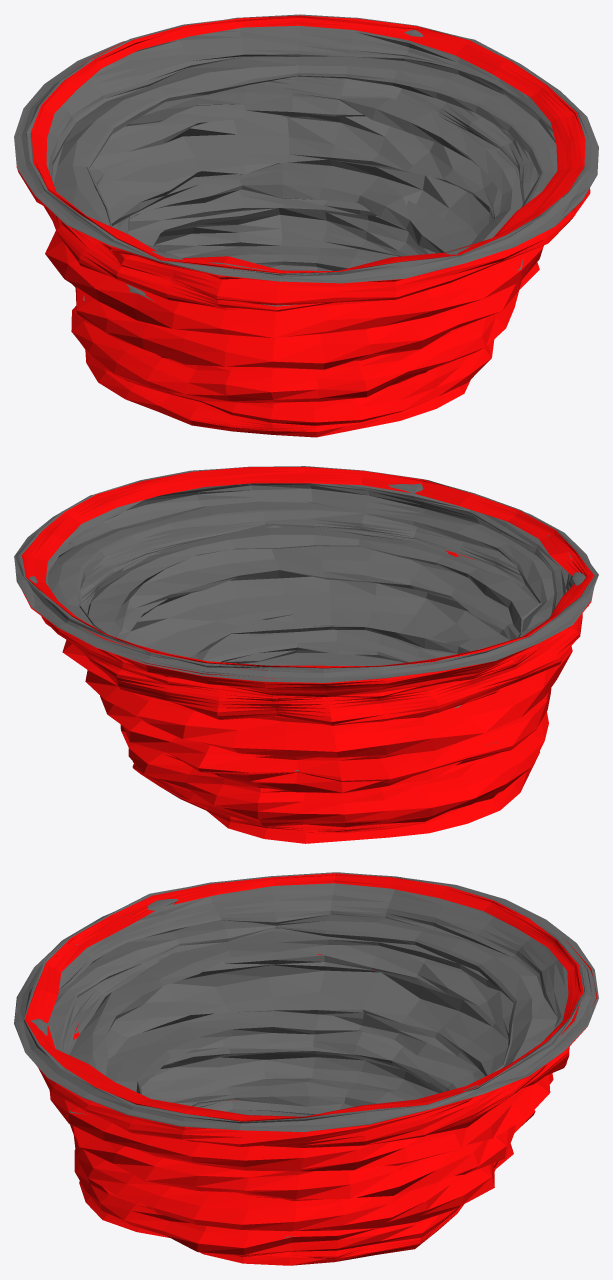
The model's file is crush_high_0.obj.
The picture shows the model from 3 angles, top to bottom: view 1: azimuth 30°, elevation 25°; view 2: azimuth 150°, elevation 25°; view 3: azimuth 270°, elevation 25°; orthographic projection. The views are drawn at different scales.
Parts seen in each view (by area): view 1: model; view 2: model; view 3: model.
Part boxes in pixels (<box>): model: <box>14,14,598,437</box>; model: <box>14,466,598,843</box>; model: <box>14,872,598,1265</box>.
Bounding box in the file's own units: 0.0936 × 0.0372 × 0.0916.
Materials: 1 (1 with a texture image).
